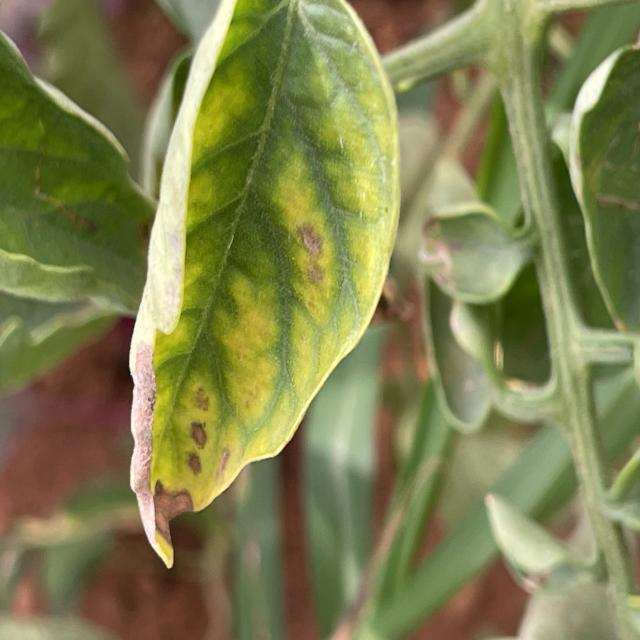tomato_early blight: (130, 1, 400, 566)
